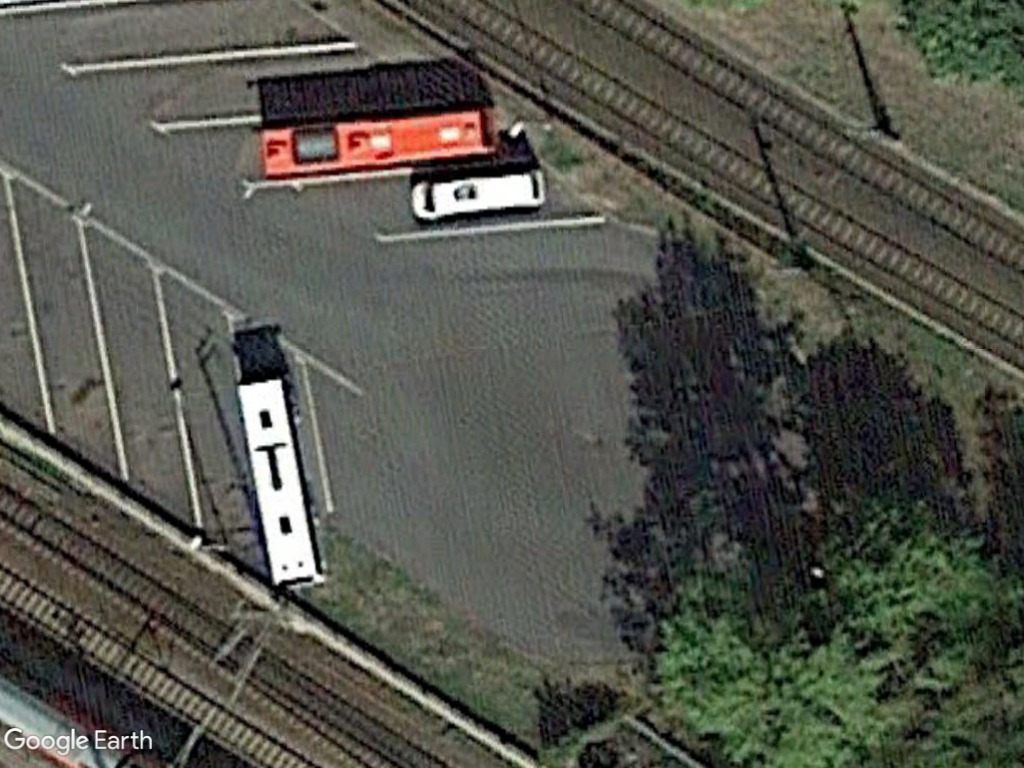bus: (231, 372, 330, 596), (251, 100, 500, 178)
van: (403, 162, 550, 224)
